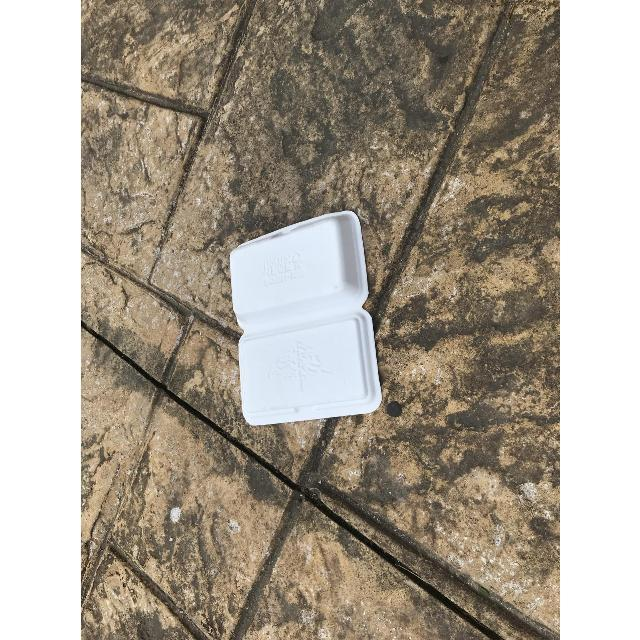Plastico descartable: (231, 212, 383, 428)
